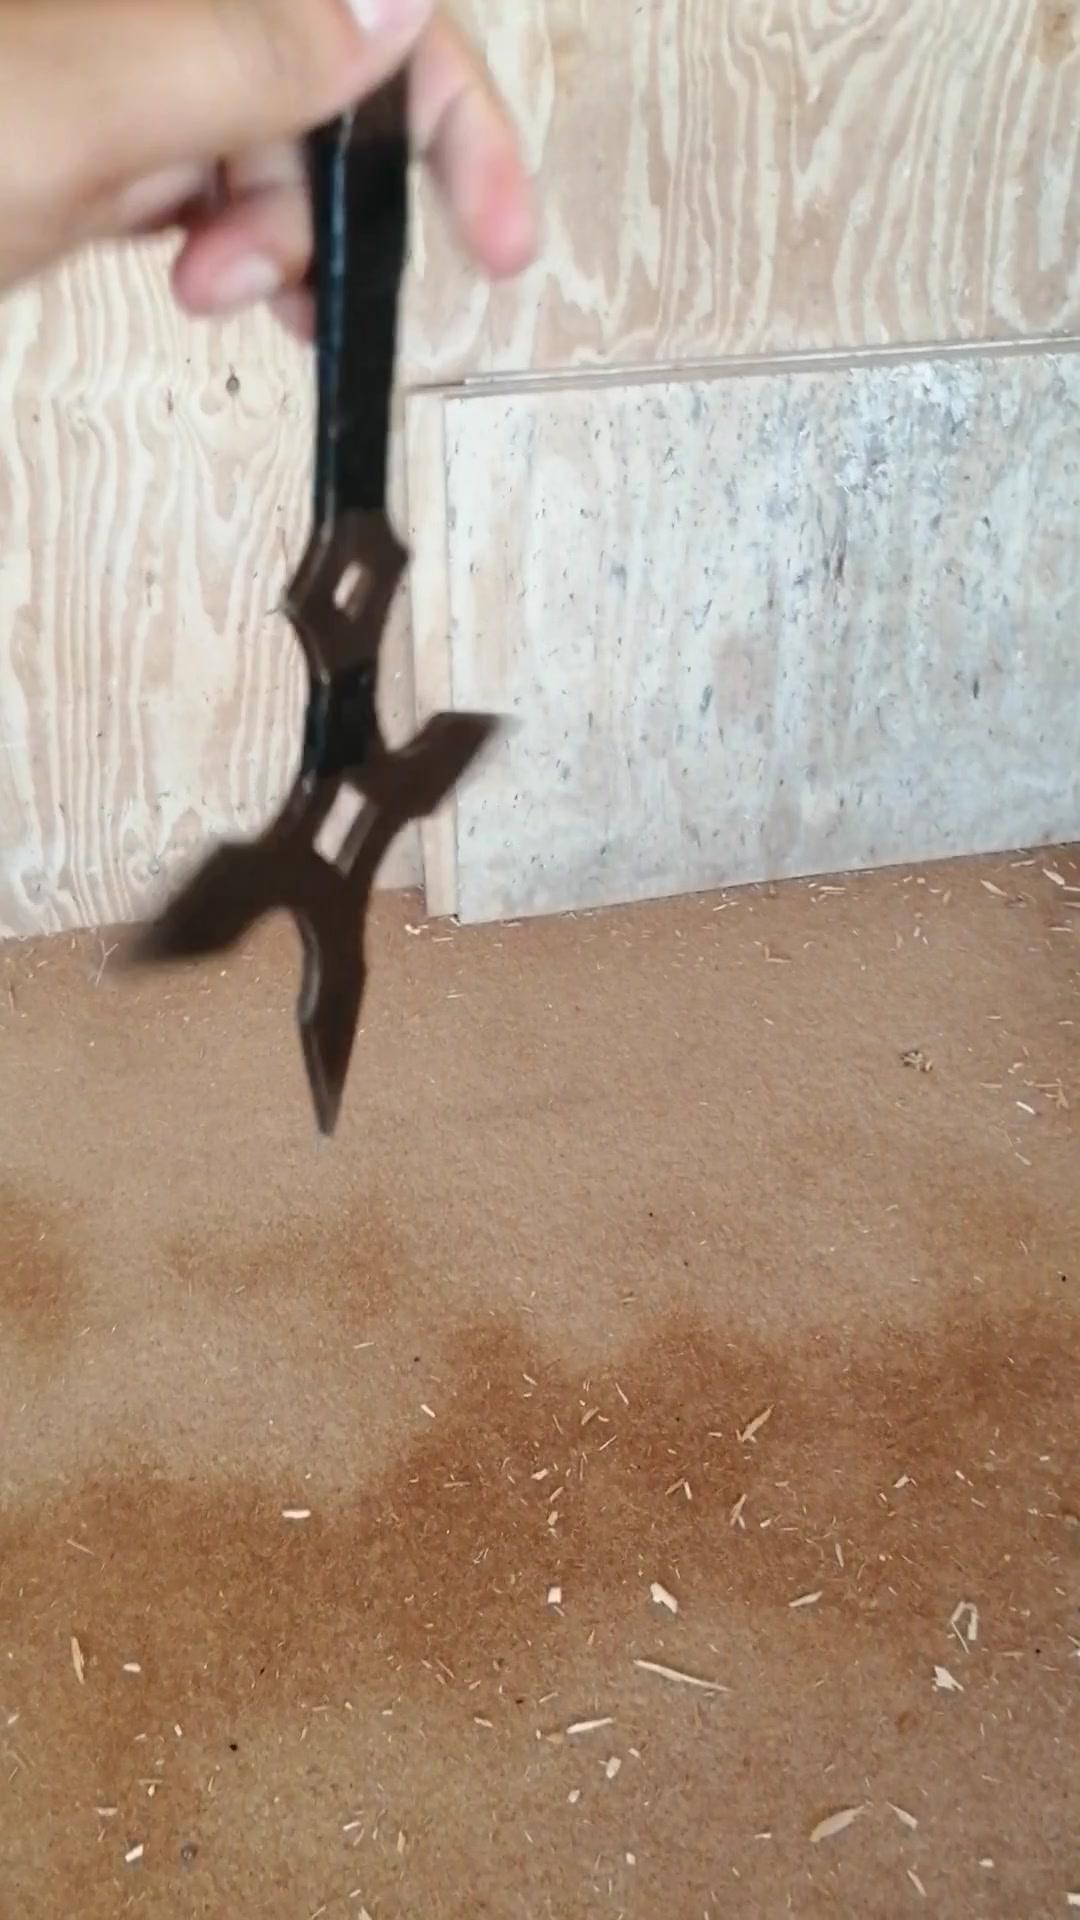Hand Axe: (128, 3, 516, 1133)
